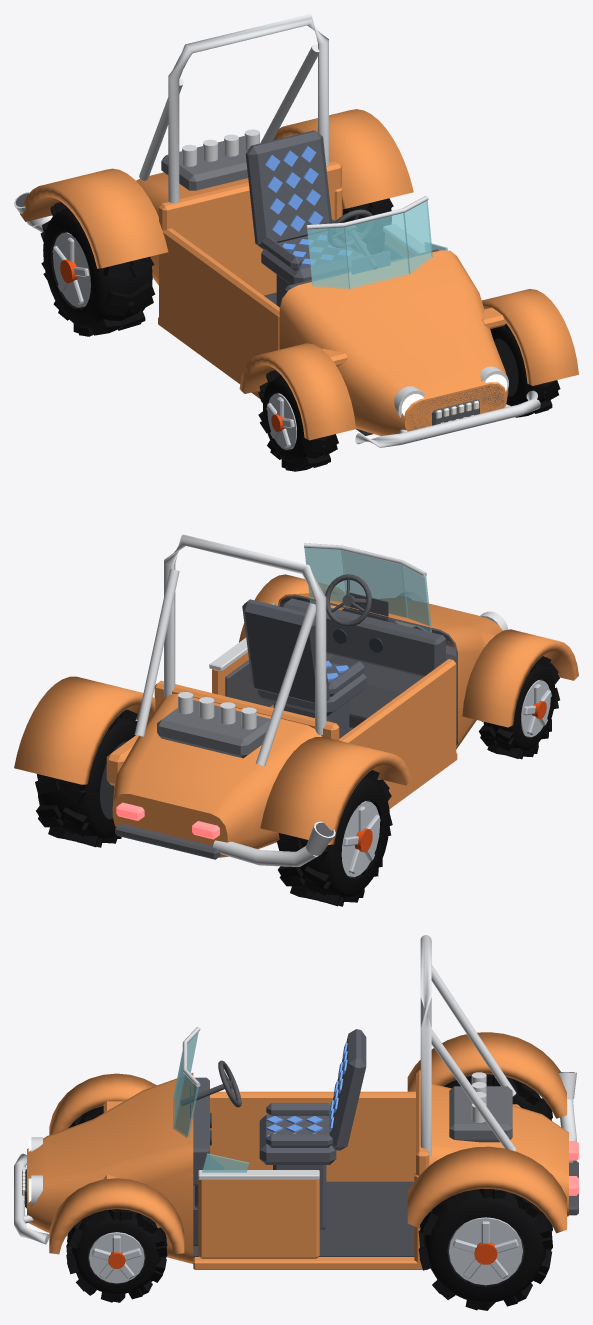
The model's file is player_buggy.glb.
3 views of the same model, one above another, from view 1: azimuth 30°, elevation 25°; view 2: azimuth 150°, elevation 25°; view 3: azimuth 270°, elevation 25° (orthographic). The views are drawn at different scales.
Visible parts, largest first — view 1: Body__Shell, Driver_Seat__Seat__1D1F26, Wheel_PR, Roll_Bars, Glass__Body, Wheel_NR, Exhaust, Driver_Seat__Accent__2F6BFF, Wheel_NL, Wheel_PL, Headlights, Steering_Wheel__Rim__18191C (+3 smaller); view 2: Body__Shell, Roll_Bars, Wheel_PR, Driver_Seat__Seat__1D1F26, Exhaust, Wheel_PL, Cabin__Dash__1B1D22, Glass__Body, Wheel_NR, Cabin__Floor__131417, Tail_Lights, Steering_Wheel__Rim__18191C (+5 smaller); view 3: Body__Shell, Wheel_PL, Door_Driver__Shell, Wheel_NL, Cabin__Floor__131417, Driver_Seat__Seat__1D1F26, Roll_Bars, Exhaust, Cabin__Dash__1B1D22, Glass__Body, Door_Driver__Trim__C9CCD1, Wheel_PR (+5 smaller).
Part boxes in pixels (box(x1,y1,x2,y2)): Body__Shell: box(20, 109, 578, 440); Driver_Seat__Seat__1D1F26: box(245, 130, 366, 307); Wheel_PR: box(40, 202, 155, 336); Roll_Bars: box(139, 14, 540, 447); Glass__Body: box(307, 200, 432, 289); Wheel_NR: box(258, 370, 338, 471); Exhaust: box(14, 129, 259, 232); Driver_Seat__Accent__2F6BFF: box(265, 146, 352, 265); Wheel_NL: box(490, 323, 560, 417); Wheel_PL: box(342, 198, 393, 254); Headlights: box(394, 366, 508, 417); Steering_Wheel__Rim__18191C: box(327, 209, 377, 269); Body__Shell: box(14, 574, 578, 857); Roll_Bars: box(134, 534, 326, 766); Wheel_PR: box(276, 770, 392, 906); Driver_Seat__Seat__1D1F26: box(242, 599, 366, 738); Exhaust: box(157, 692, 335, 866); Wheel_PL: box(35, 709, 137, 847); Cabin__Dash__1B1D22: box(281, 592, 445, 676); Glass__Body: box(304, 547, 431, 632); Wheel_NR: box(479, 656, 559, 759); Cabin__Floor__131417: box(326, 653, 456, 731); Tail_Lights: box(115, 802, 221, 859); Steering_Wheel__Rim__18191C: box(325, 574, 371, 626); Body__Shell: box(27, 1032, 568, 1269); Wheel_PL: box(418, 1189, 552, 1310); Door_Driver__Shell: box(198, 1179, 319, 1258); Wheel_NL: box(66, 1209, 167, 1302); Cabin__Floor__131417: box(193, 1156, 414, 1257); Driver_Seat__Seat__1D1F26: box(259, 1029, 366, 1229); Roll_Bars: box(14, 935, 516, 1244); Exhaust: box(449, 1072, 576, 1162); Cabin__Dash__1B1D22: box(190, 1077, 209, 1185); Glass__Body: box(173, 1032, 198, 1137); Door_Driver__Trim__C9CCD1: box(198, 1170, 319, 1179); Wheel_PR: box(444, 1074, 552, 1120).
Size of the model in its own units: 2.11 by 1.86 by 3.4.
18 materials, 1 textured.
